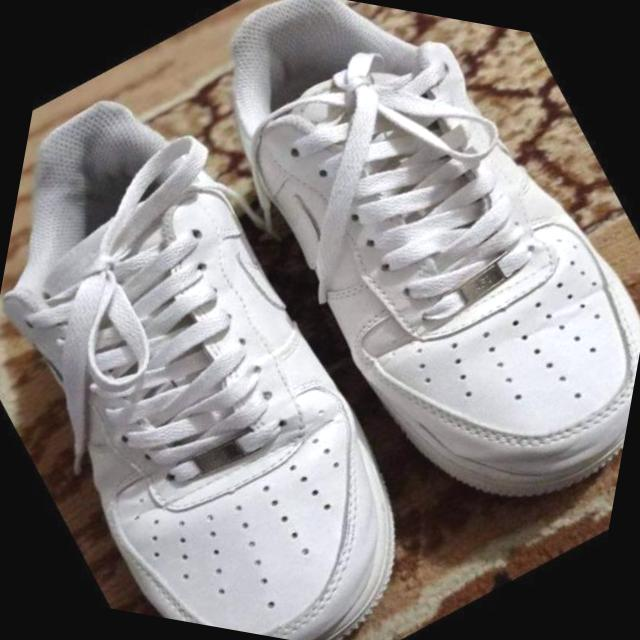nike_fake_airforce: (0, 35, 536, 640), (91, 0, 640, 583)
